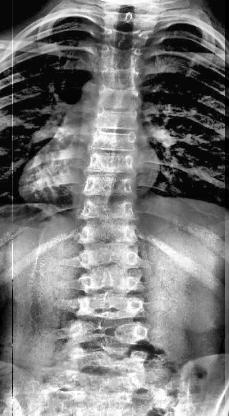Vertebrae: (67, 344, 151, 376), (72, 320, 146, 352), (77, 245, 145, 274), (72, 194, 140, 223), (80, 270, 148, 298), (76, 294, 142, 321), (78, 224, 140, 252), (82, 172, 138, 200), (98, 107, 144, 138), (89, 128, 142, 154), (98, 86, 146, 110), (88, 151, 140, 173), (102, 64, 146, 90)
